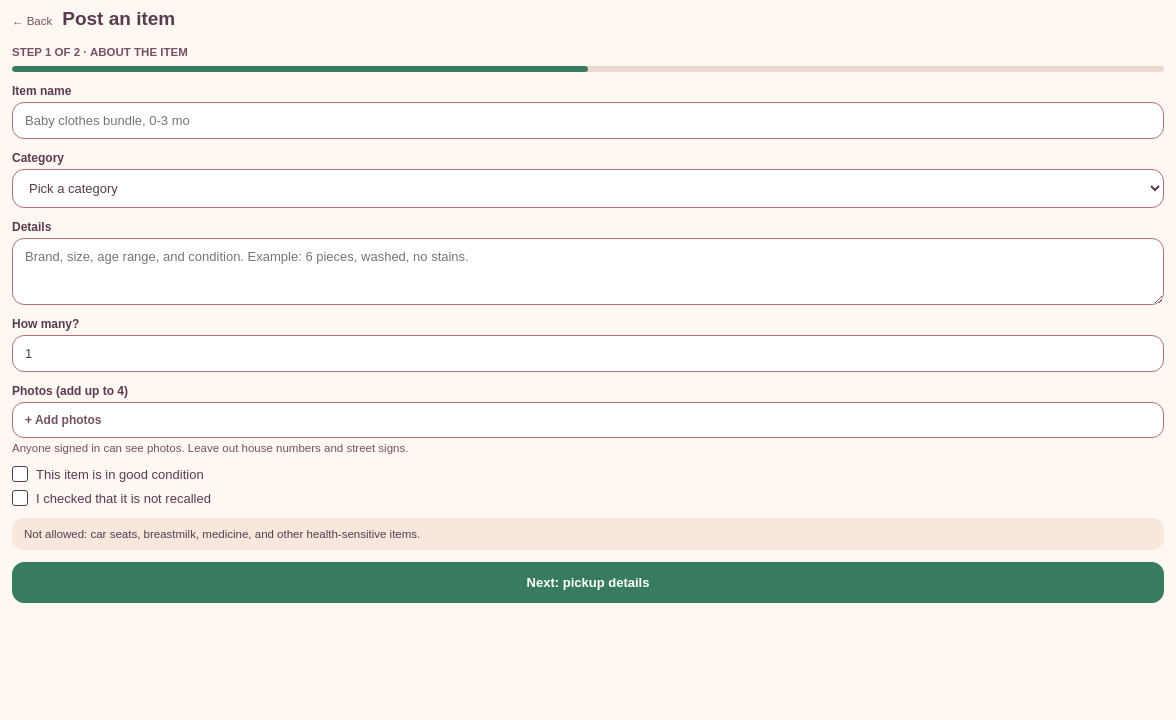
Test case: PostItemPage › sends an organization without a profile address to its profile
The width and height of the screenshot is (1176, 720).
Type "Crib" into the field labelled "Item name" at (588, 120), box [12,102,1164,139]
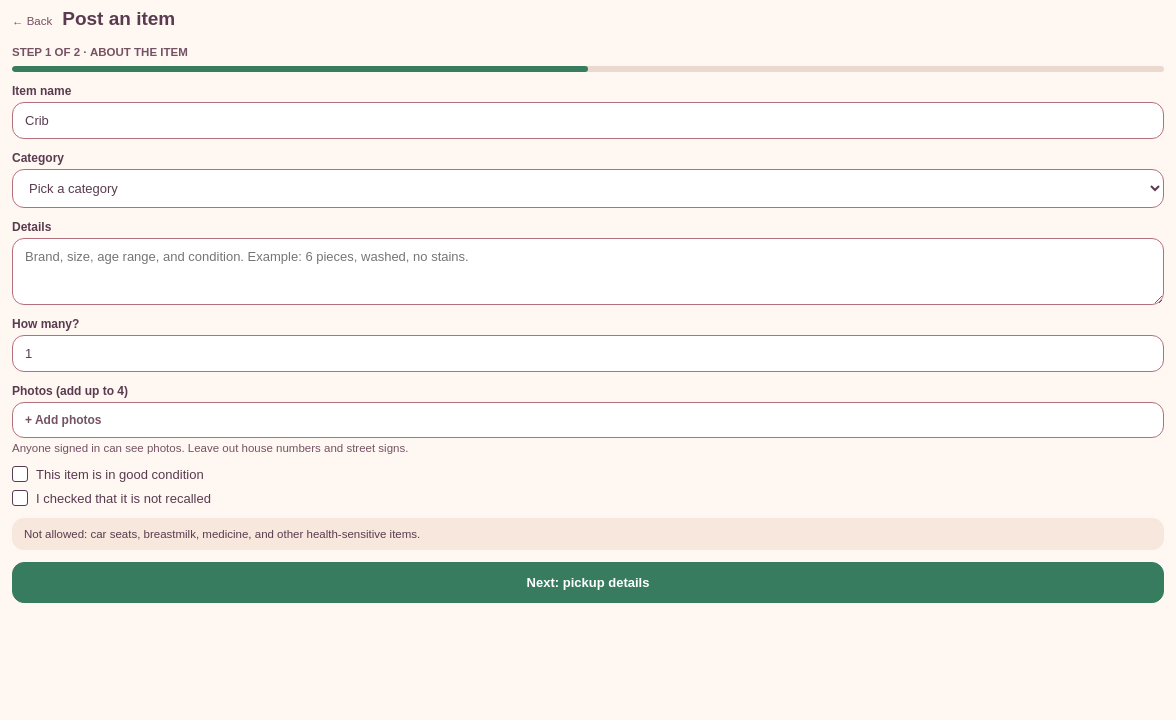
Select "Furniture" in the dropdown labelled "Category" at (588, 188), box [12,169,1164,208]
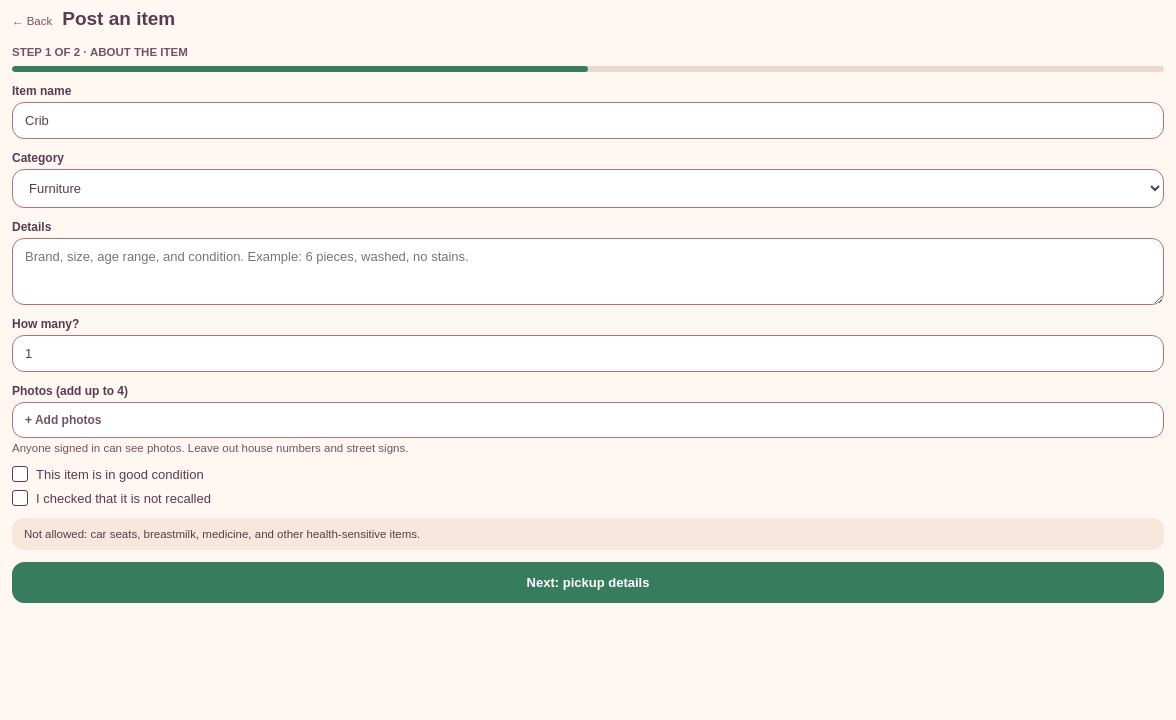
Replace the text in the text box labelled "Details" with "Graco, like new" at (588, 272), box [12,238,1164,305]
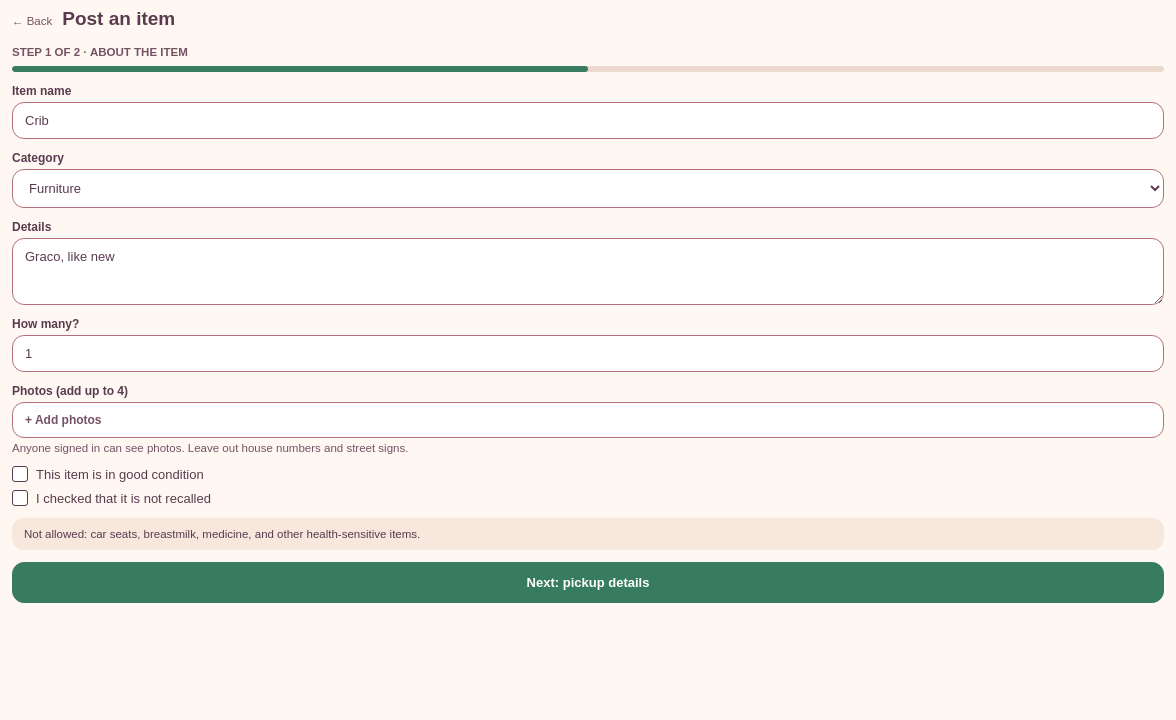
Click the checkbox labelled "This item is in good condition" at (20, 474), box [12,466,28,482]
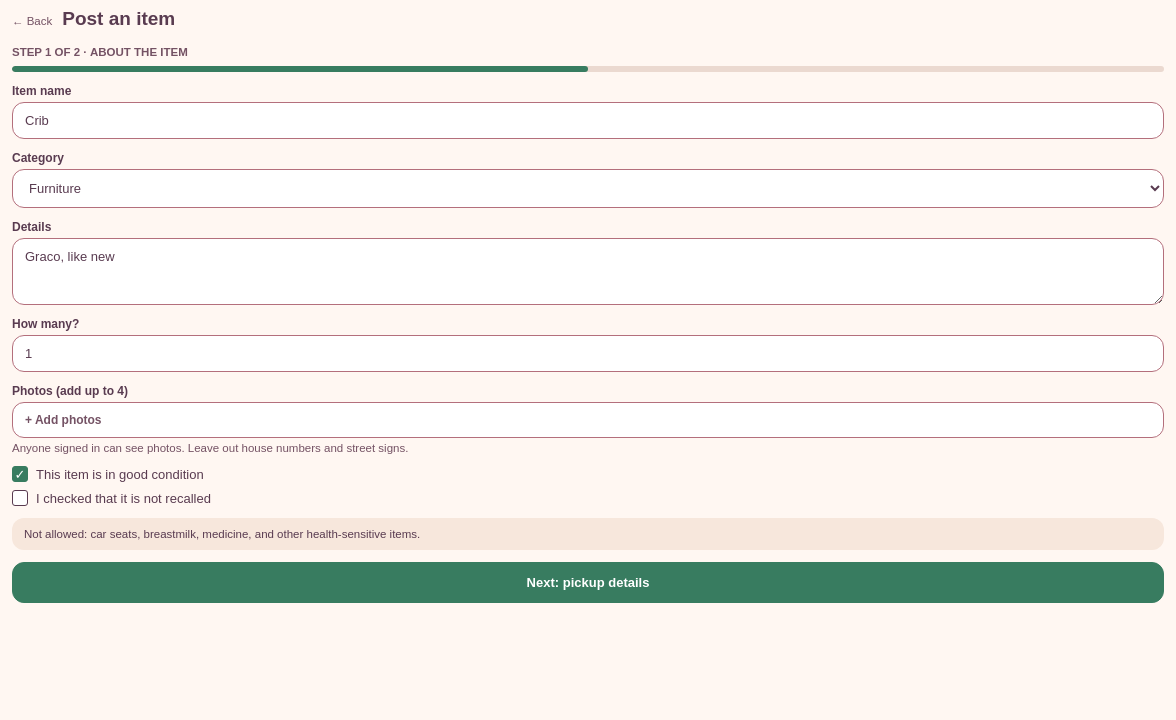
Click the checkbox labelled "I checked that it is not recalled" at (20, 498), box [12,490,28,506]
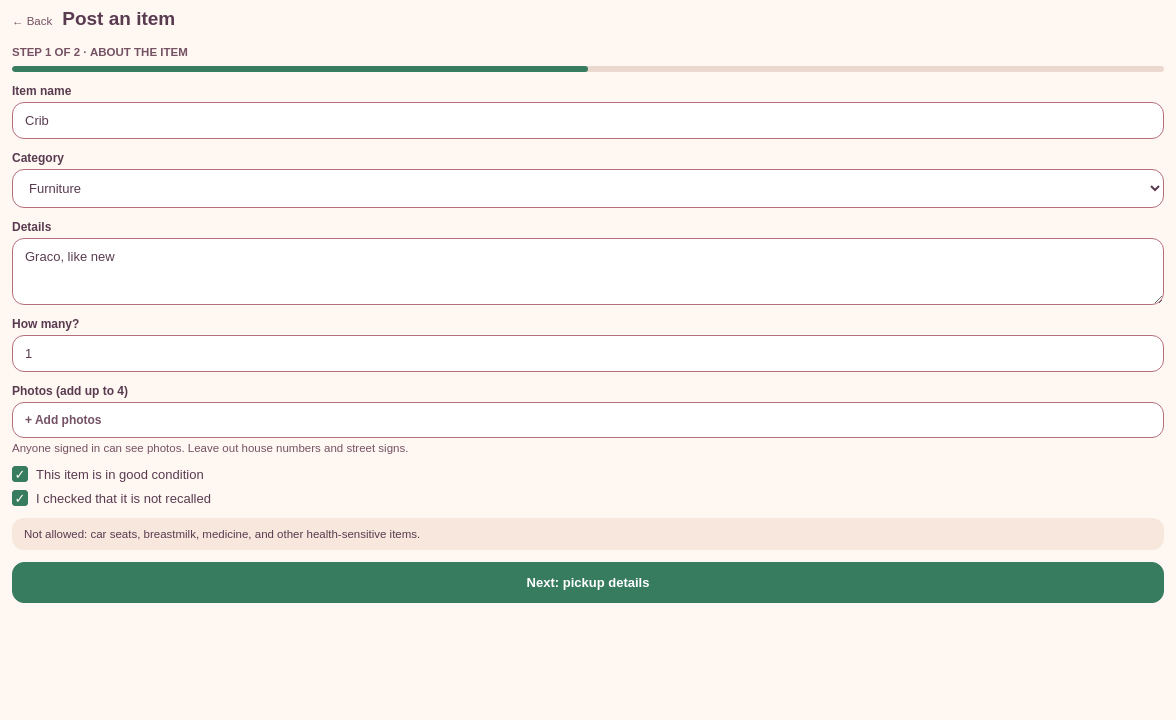
Click the button "Next: pickup details" at (588, 582), box [12,562,1164,603]
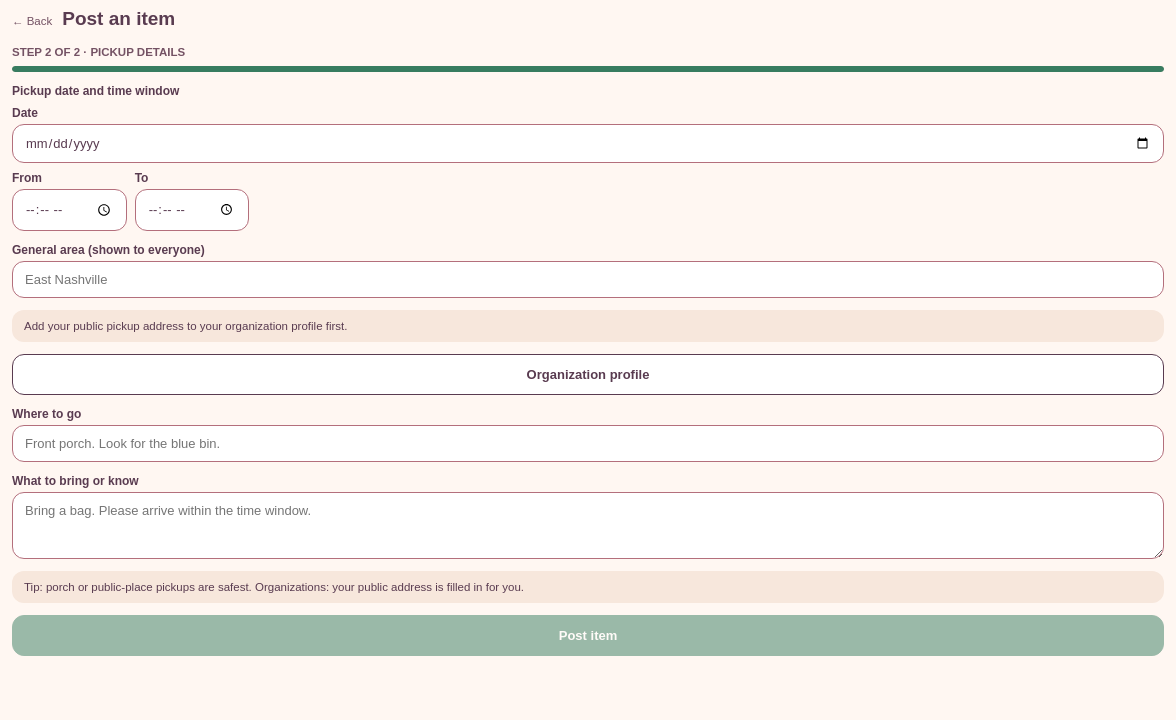
Expected: the button "Post item" is disabled, [12,615,1164,656]
